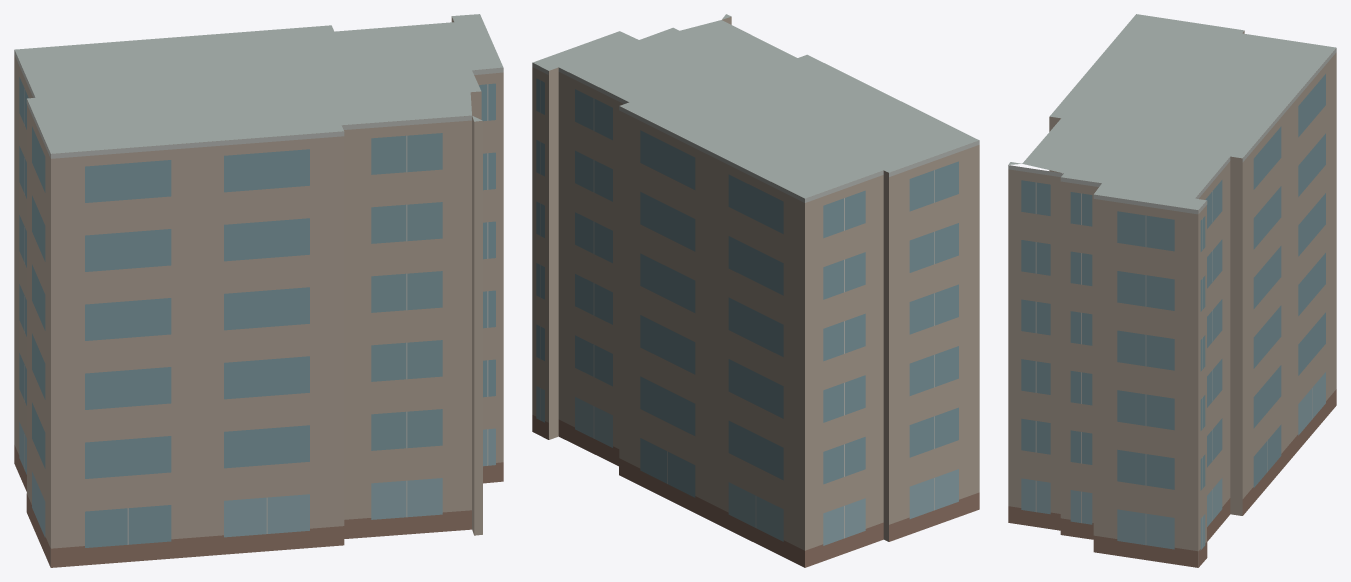
Rendered from survey-upis-32667607.glb.
3 renders of one model, left to right at view 1: azimuth 30°, elevation 25°; view 2: azimuth 150°, elevation 25°; view 3: azimuth 270°, elevation 25°, orthographic. The views are drawn at different scales.
Visible parts, largest first — view 1: survey-upis-32667607.tmp; view 2: survey-upis-32667607.tmp; view 3: survey-upis-32667607.tmp.
Part boxes in pixels (box(x1,y1,x2,y2)): survey-upis-32667607.tmp: box(14, 14, 503, 567); survey-upis-32667607.tmp: box(532, 14, 979, 567); survey-upis-32667607.tmp: box(1008, 14, 1336, 567).
Size of the model in its own units: 23.94 by 20.35 by 16.94.
